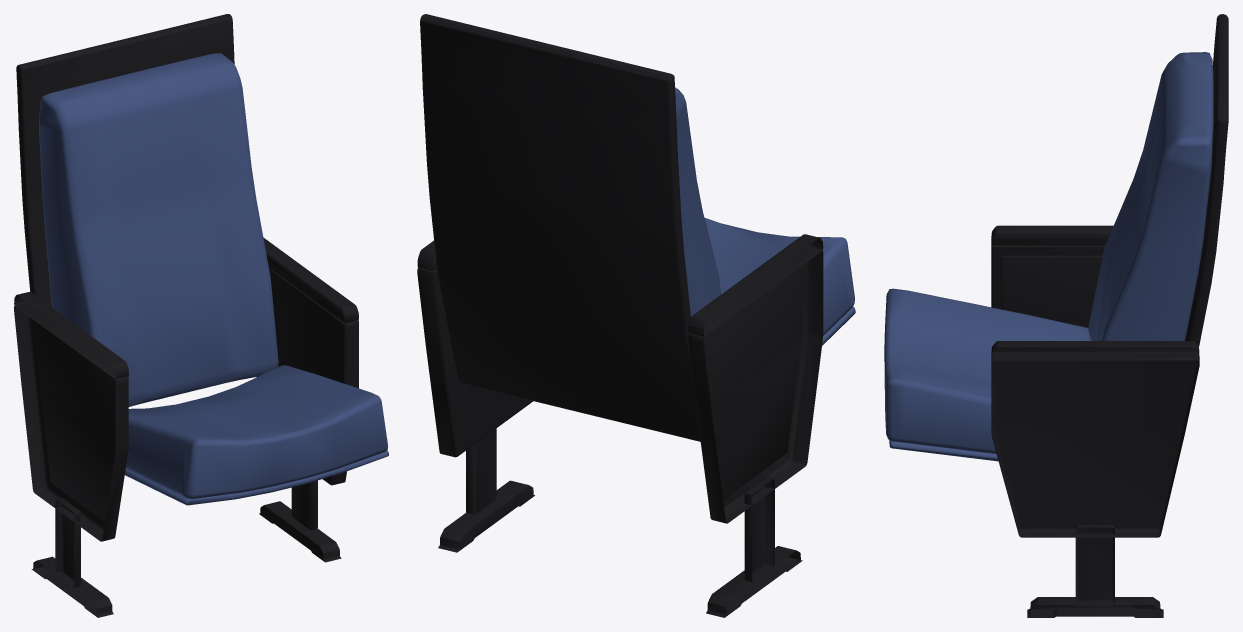
Rendered from seat_standard.glb.
3 views of the same model, side by side, from view 1: azimuth 30°, elevation 25°; view 2: azimuth 150°, elevation 25°; view 3: azimuth 270°, elevation 25° (orthographic). The views are drawn at different scales.
Visible parts, largest first — view 1: seat_standard; view 2: seat_standard; view 3: seat_standard.
Boxes of the visible parts, x1,y1,x2,y2 form: seat_standard: [14, 14, 388, 617]; seat_standard: [417, 14, 855, 617]; seat_standard: [884, 14, 1228, 617].
Size of the model in its own units: 0.5319 by 1 by 0.6352.
